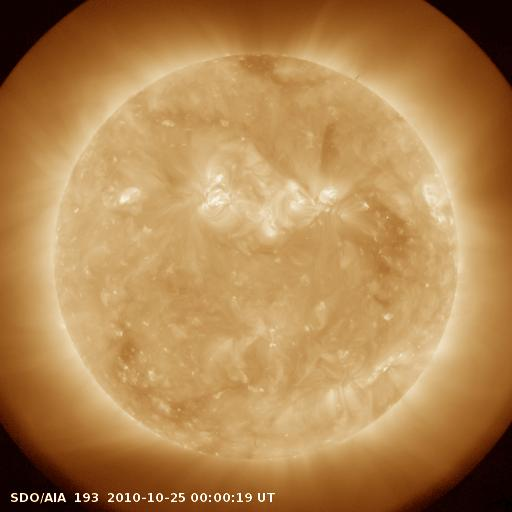coronal_hole: (360, 186, 416, 316), (230, 43, 292, 85)
